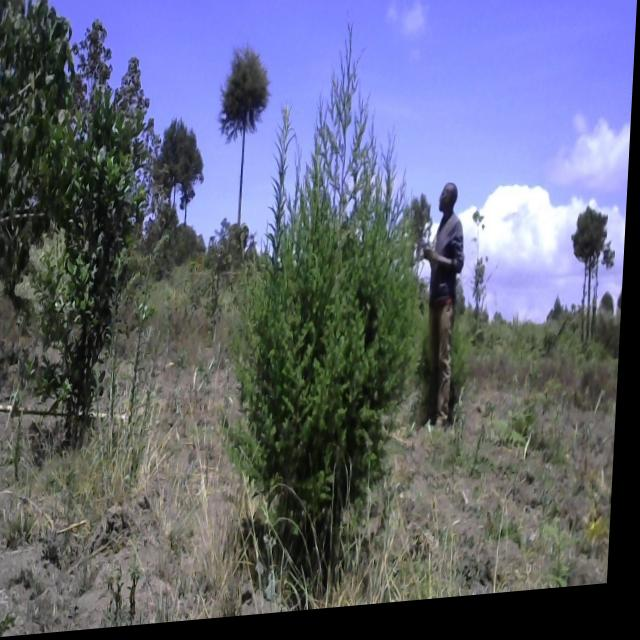cedrus: (220, 32, 451, 614), (206, 35, 284, 286), (153, 116, 214, 258), (568, 204, 612, 343)
other: (41, 87, 156, 421), (0, 0, 70, 285)
